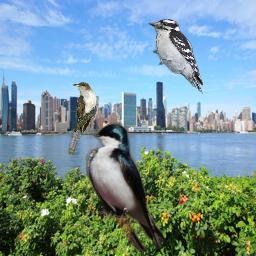Cuckoo: (68, 82, 97, 155)
Swallow: (85, 122, 165, 252)
Woodpecker: (148, 19, 203, 94)
